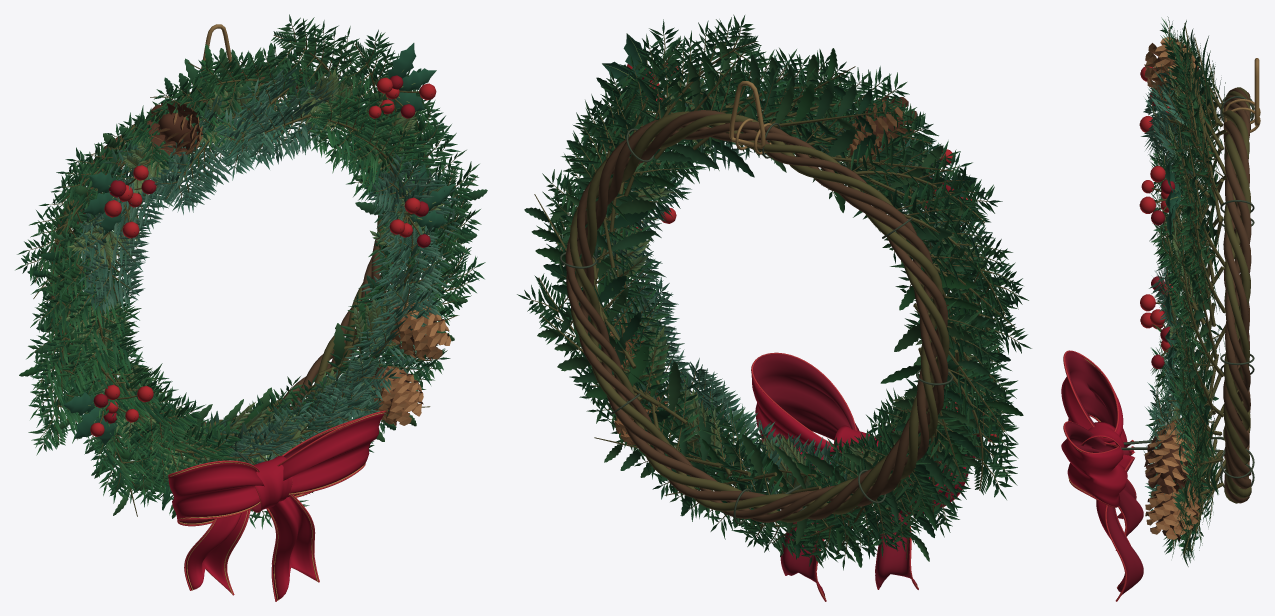
File: christmas-wreath.glb
The picture shows the model from 3 angles, left to right: view 1: azimuth 30°, elevation 25°; view 2: azimuth 150°, elevation 25°; view 3: azimuth 270°, elevation 25°; orthographic projection. The views are drawn at different scales.
Parts seen in each view (by area): view 1: Inner silver fir, Outer fir, Cedar fans, Shadow cedar underlay 1, Right shaped velvet loop, Left shaped velvet loop, Shadow cedar underlay 2, Right cut velvet tail, Five woven willow strands, Left cut velvet tail, Holly and berry cluster 2, Holly and berry cluster 1 (+6 smaller); view 2: Outer fir, Five woven willow strands, Shadow cedar underlay 1, Shadow cedar underlay 2, Inner silver fir, Right shaped velvet loop, Cedar fans, Woodland pine cone 3, Left cut velvet tail, Right cut velvet tail, Rear keyhole and twin wire lashings, Holly and berry cluster 2 (+1 smaller); view 3: Outer fir, Five woven willow strands, Inner silver fir, Shadow cedar underlay 1, Right shaped velvet loop, Left shaped velvet loop, Shadow cedar underlay 2, Woodland pine cone 1, Woodland pine cone 2, Right cut velvet tail, Holly and berry cluster 2, Cedar fans (+8 smaller).
Part boxes in pixels (left/top/right/bottom): Inner silver fir: left=38, top=67, right=467, bottom=498; Outer fir: left=15, top=14, right=485, bottom=529; Cedar fans: left=66, top=68, right=443, bottom=479; Shadow cedar underlay 1: left=19, top=34, right=443, bottom=389; Right shaped velvet loop: left=277, top=410, right=385, bottom=497; Left shaped velvet loop: left=168, top=460, right=264, bottom=526; Shadow cedar underlay 2: left=54, top=175, right=487, bottom=518; Right cut velvet tail: left=266, top=495, right=319, bottom=601; Five woven willow strands: left=50, top=66, right=402, bottom=441; Left cut velvet tail: left=184, top=509, right=250, bottom=595; Holly and berry cluster 2: left=368, top=43, right=436, bottom=118; Holly and berry cluster 1: left=83, top=165, right=156, bottom=238; Outer fir: left=517, top=14, right=1031, bottom=570; Five woven willow strands: left=565, top=110, right=949, bottom=522; Shadow cedar underlay 1: left=565, top=41, right=1023, bottom=430; Shadow cedar underlay 2: left=524, top=194, right=987, bottom=567; Inner silver fir: left=593, top=54, right=1012, bottom=534; Right shaped velvet loop: left=751, top=352, right=859, bottom=470; Cedar fans: left=596, top=69, right=987, bottom=510; Woodland pine cone 3: left=847, top=96, right=917, bottom=160; Left cut velvet tail: left=875, top=512, right=918, bottom=589; Right cut velvet tail: left=780, top=476, right=827, bottom=601; Rear keyhole and twin wire lashings: left=729, top=81, right=771, bottom=154; Holly and berry cluster 2: left=602, top=33, right=678, bottom=101; Outer fir: left=1160, top=16, right=1227, bottom=562; Five woven willow strands: left=1223, top=87, right=1251, bottom=503; Inner silver fir: left=1141, top=62, right=1214, bottom=510; Shadow cedar underlay 1: left=1182, top=20, right=1223, bottom=358; Right shaped velvet loop: left=1061, top=421, right=1127, bottom=507; Left shaped velvet loop: left=1061, top=350, right=1127, bottom=447; Shadow cedar underlay 2: left=1178, top=216, right=1223, bottom=566; Woodland pine cone 1: left=1144, top=419, right=1200, bottom=494; Woodland pine cone 2: left=1145, top=481, right=1200, bottom=540; Right cut velvet tail: left=1096, top=446, right=1143, bottom=601; Holly and berry cluster 2: left=1139, top=161, right=1181, bottom=237; Cedar fans: left=1167, top=66, right=1197, bottom=475.
Bounding box in the file's own units: 0.4991 × 0.5587 × 0.1782.
